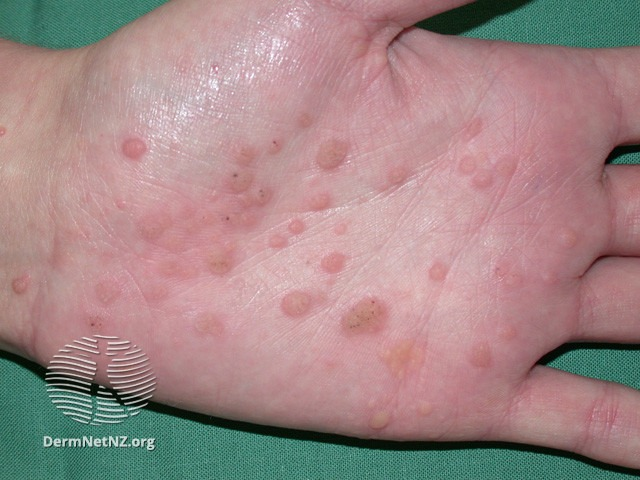Warts: (332, 290, 390, 340), (461, 151, 517, 194), (311, 134, 351, 174), (200, 244, 244, 277), (316, 241, 355, 277), (86, 270, 122, 309), (303, 185, 336, 220), (114, 134, 151, 164), (281, 288, 312, 321), (0, 271, 37, 296), (467, 341, 495, 374), (262, 224, 295, 252), (283, 213, 314, 239)
